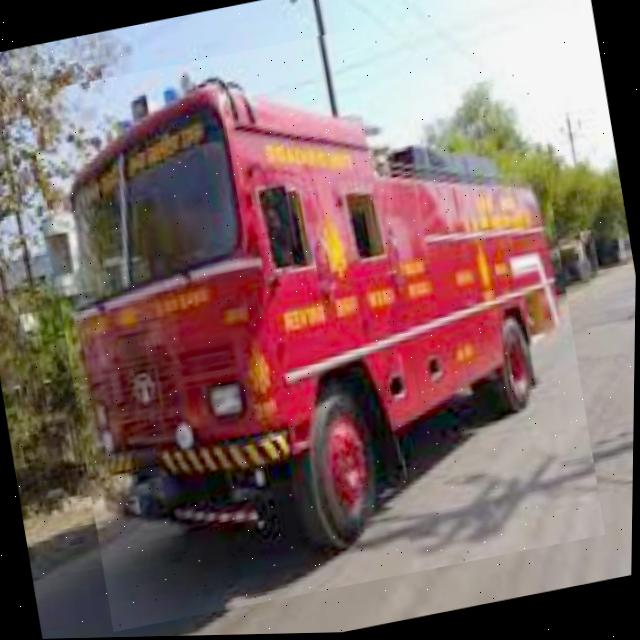Fire Truck: (20, 0, 613, 634)
